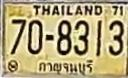0: (27, 20, 42, 54)
1: (96, 20, 101, 56)
3: (108, 19, 123, 55), (73, 19, 88, 54)
7: (10, 18, 25, 54)
8: (56, 19, 71, 54)
KRI: (35, 58, 96, 76)
